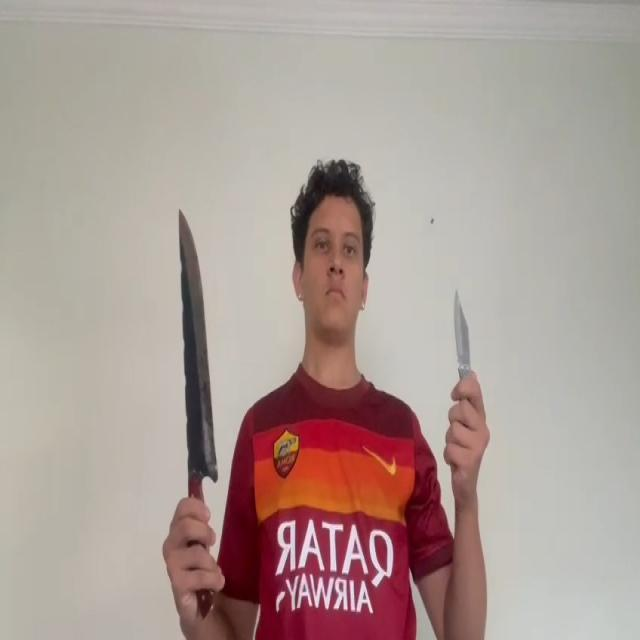knife: (176, 208, 219, 488), (452, 286, 472, 366)
